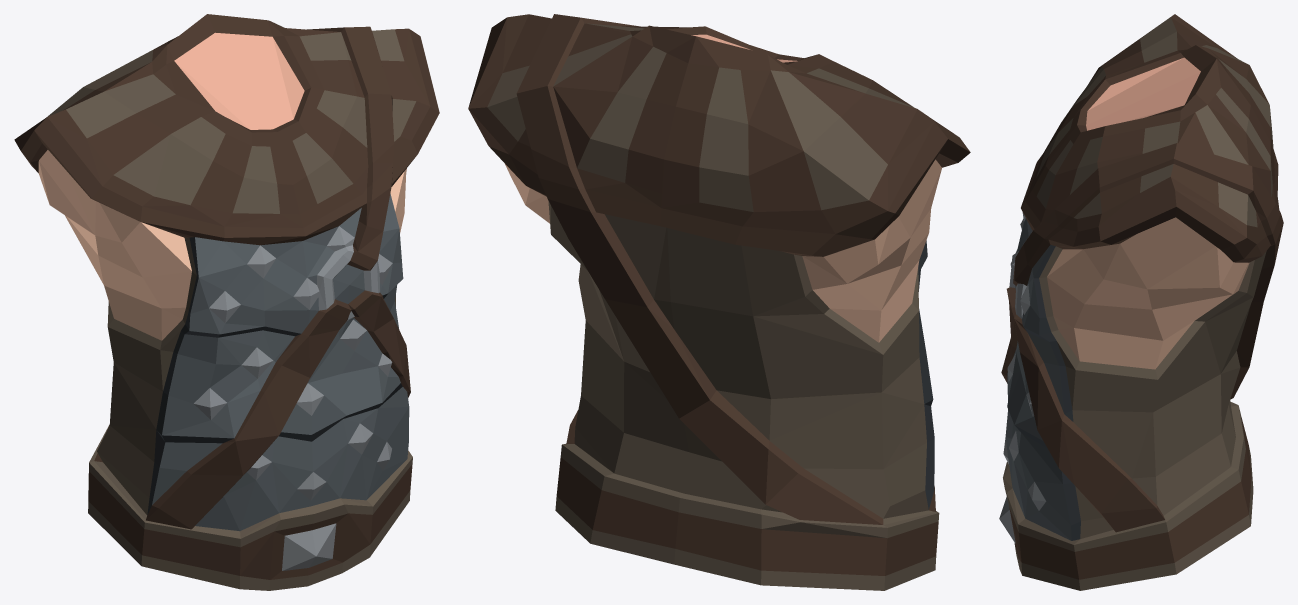
Rendered from Chr_Torso_Male_12_Static.fbx.
3 renders of one model, left to right at view 1: azimuth 30°, elevation 25°; view 2: azimuth 150°, elevation 25°; view 3: azimuth 270°, elevation 25°, orthographic. The views are drawn at different scales.
Parts seen in each view (by area): view 1: Chr_Torso_Male_12_Static; view 2: Chr_Torso_Male_12_Static; view 3: Chr_Torso_Male_12_Static.
Boxes of the visible parts, x1,y1,x2,y2 form: Chr_Torso_Male_12_Static: [14, 14, 439, 590]; Chr_Torso_Male_12_Static: [468, 14, 970, 590]; Chr_Torso_Male_12_Static: [999, 14, 1283, 590].
Size of the model in its own units: 0.5452 by 0.6724 by 0.3493.
